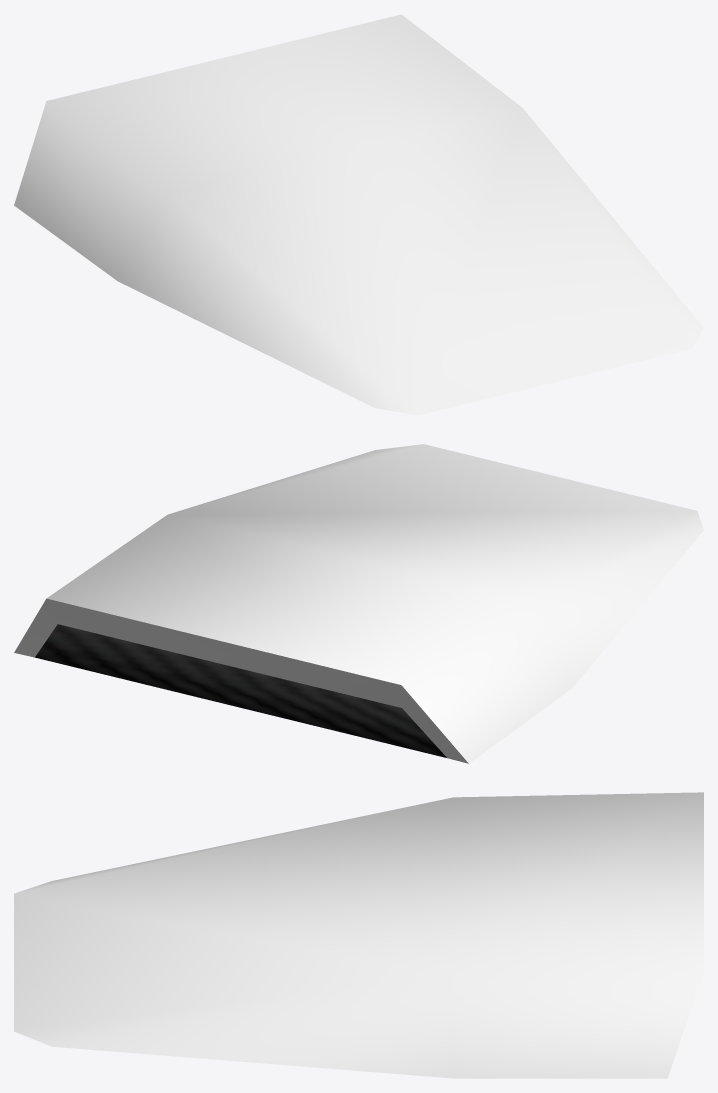
3 views of the same model, one above another, from view 1: azimuth 30°, elevation 25°; view 2: azimuth 150°, elevation 25°; view 3: azimuth 270°, elevation 25° (orthographic). The views are drawn at different scales.
Visible parts, largest first — view 1: rf_b_sc_r; view 2: rf_b_sc_r; view 3: rf_b_sc_r.
Boxes of the visible parts, <box> form: rf_b_sc_r: <box>14,14,703,415</box>; rf_b_sc_r: <box>14,444,703,763</box>; rf_b_sc_r: <box>14,792,703,1078</box>.
Size of the model in its own units: 0.3552 by 0.0592 by 0.4515.
2 materials, 2 textured.
